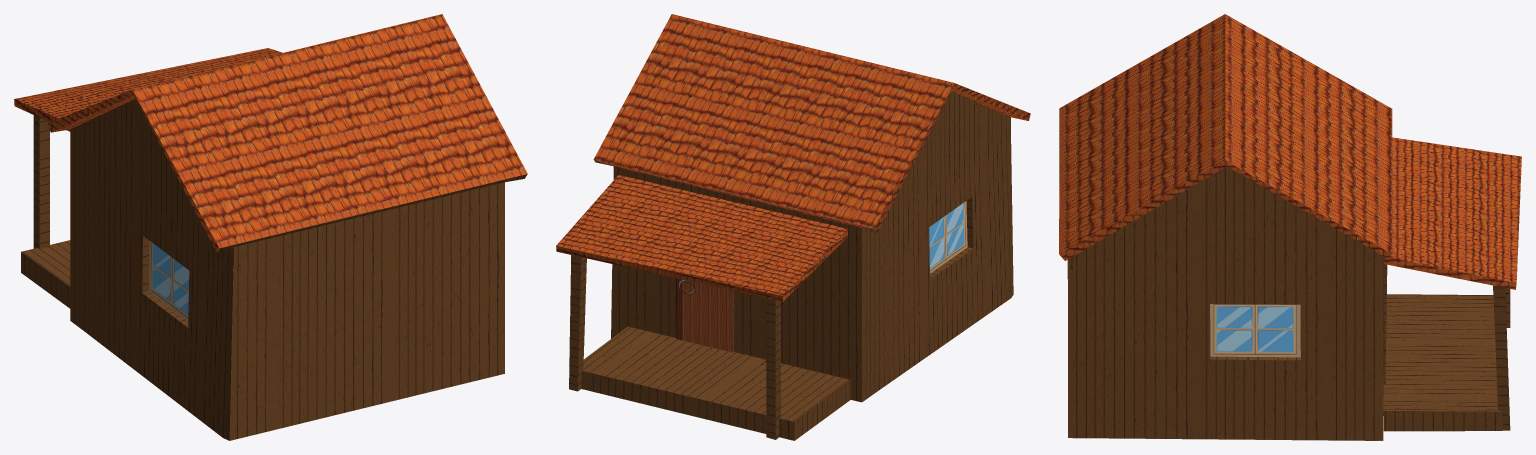
File: FRM0310003.fbx
3 views of the same model, side by side, from view 1: azimuth 30°, elevation 25°; view 2: azimuth 150°, elevation 25°; view 3: azimuth 270°, elevation 25° (orthographic). The views are drawn at different scales.
Parts seen in each view (by area): view 1: smFRM0310003; view 2: smFRM0310003; view 3: smFRM0310003.
Part boxes in pixels (x1=…): smFRM0310003: x1=14, y1=14, x2=527, y2=440; smFRM0310003: x1=556, y1=14, x2=1030, y2=440; smFRM0310003: x1=1059, y1=14, x2=1521, y2=440.
Size of the model in its own units: 449 by 410 by 600.
Materials: 1 (1 with a texture image).
